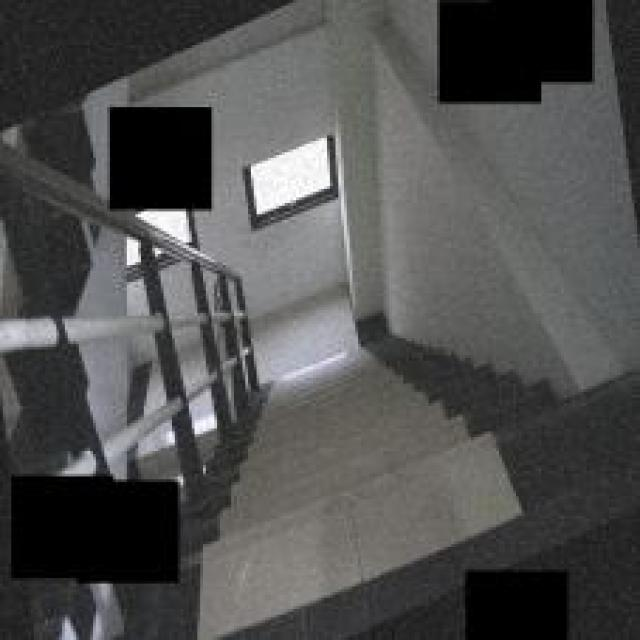downstair: (242, 398, 437, 623)
